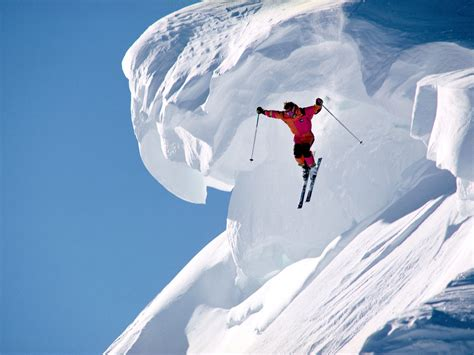skier: (221, 90, 385, 216)
